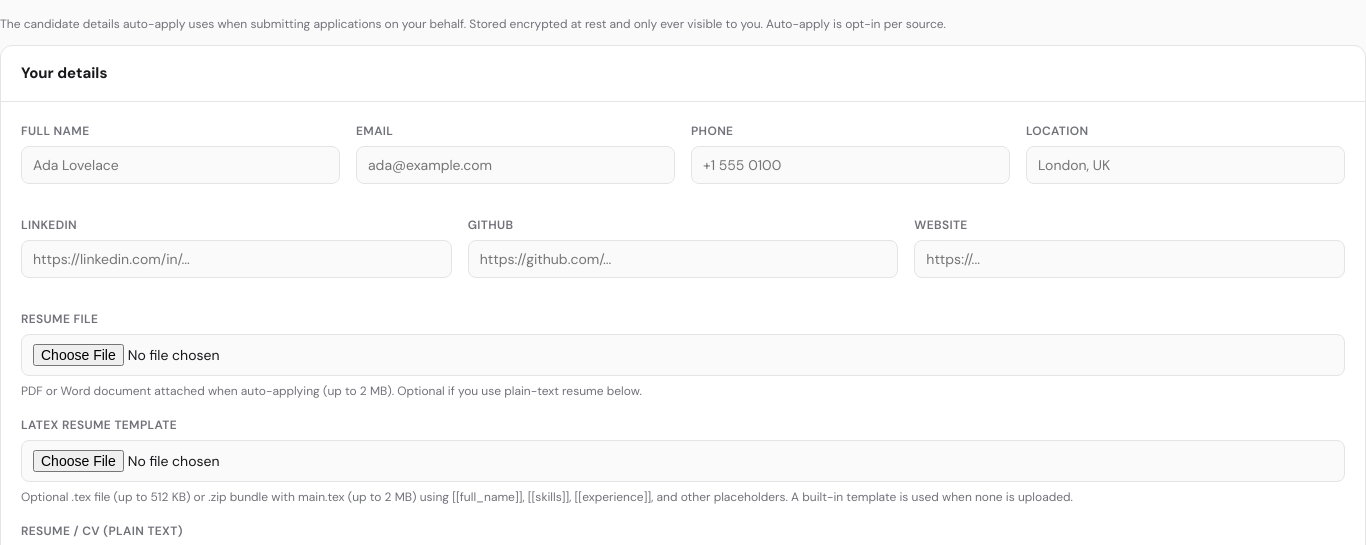
Test: ProfilePage › saves the profile
Step 1. Type "Grace Hopper" into the field with placeholder "Ada Lovelace" → [180, 164], box [21, 146, 340, 184]
(page scrolled)
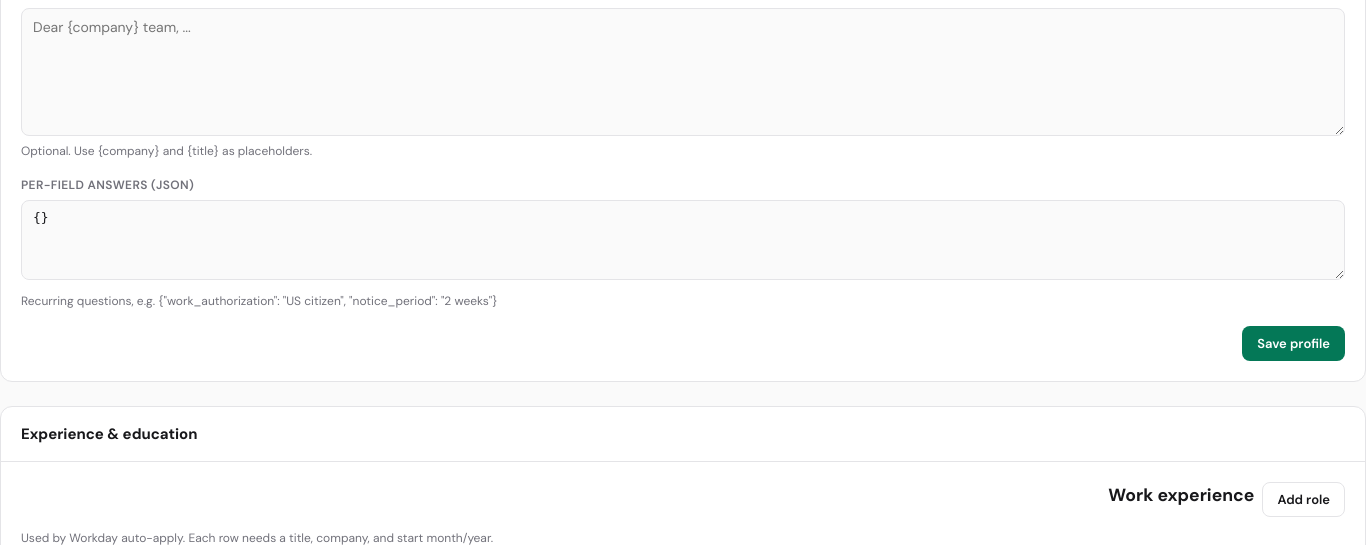
Step 2. Click the button "Save profile" → [1294, 343], box [1242, 326, 1345, 360]
(page scrolled)
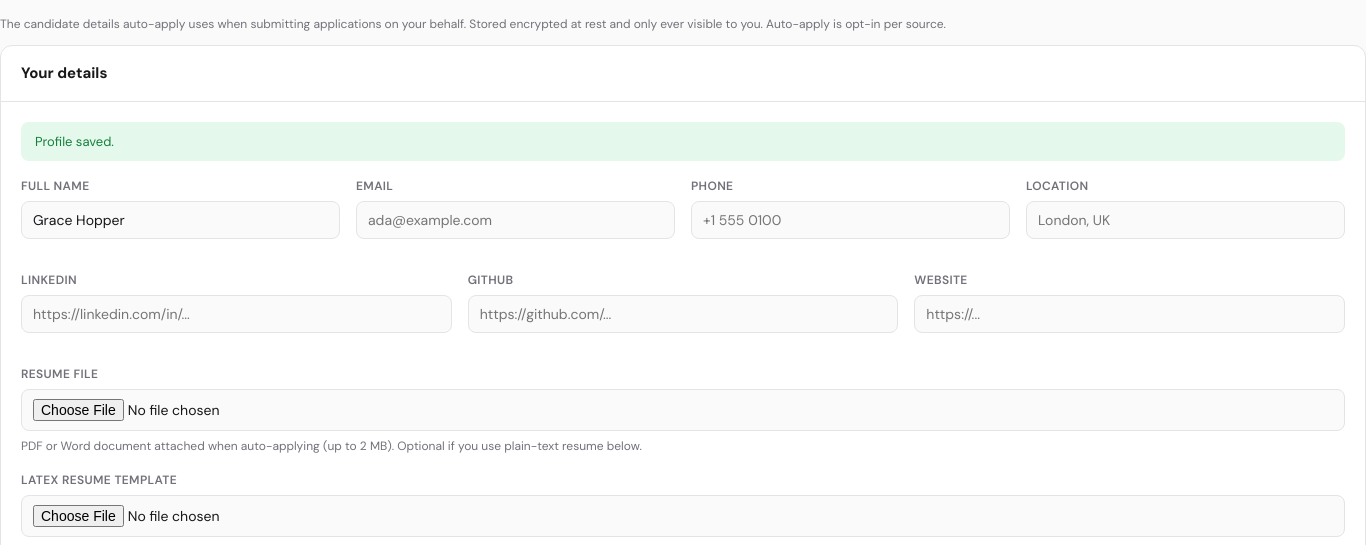
Expected: the text "Profile saved." is shown, [21, 122, 1345, 161]
